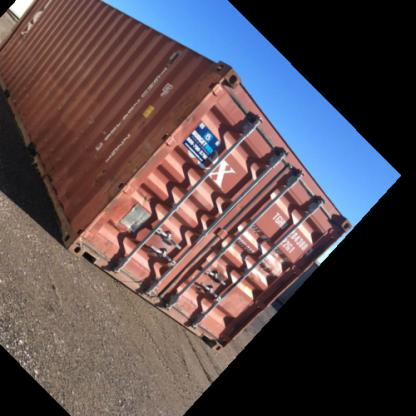Damage: (160, 88, 200, 128), (204, 59, 242, 101), (106, 173, 132, 203), (132, 142, 160, 166), (92, 164, 116, 188), (24, 138, 42, 164)
